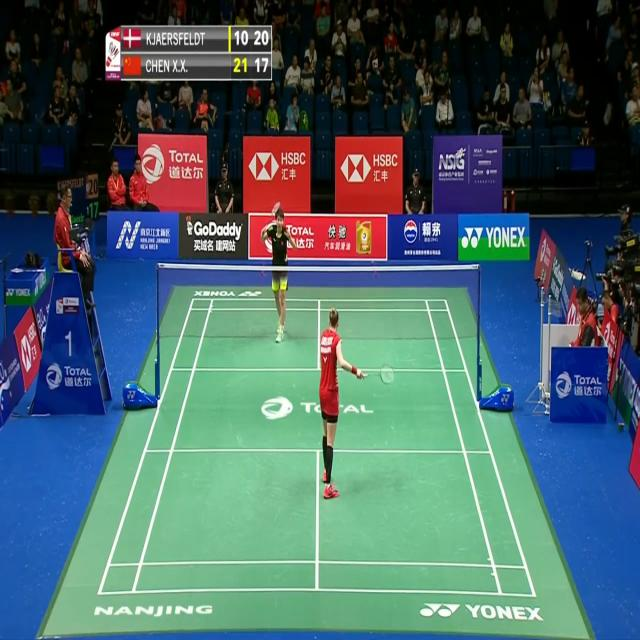Player1: (316, 299, 397, 516)
Player2: (260, 198, 304, 356)
